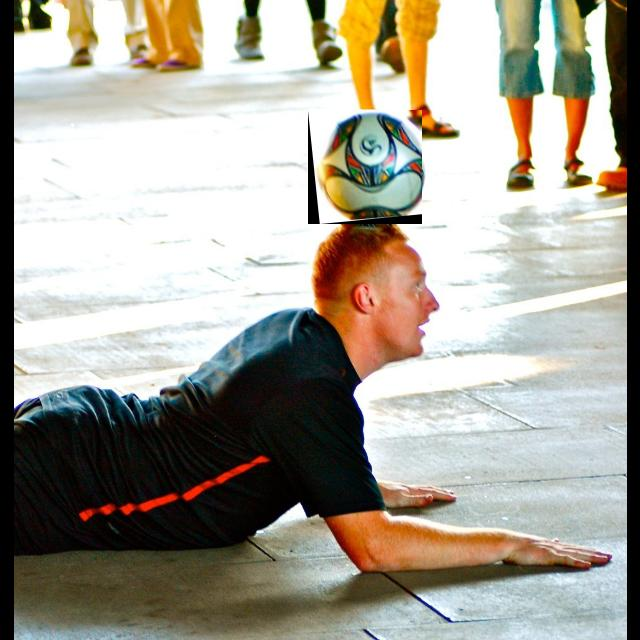Football: (308, 110, 422, 224)
